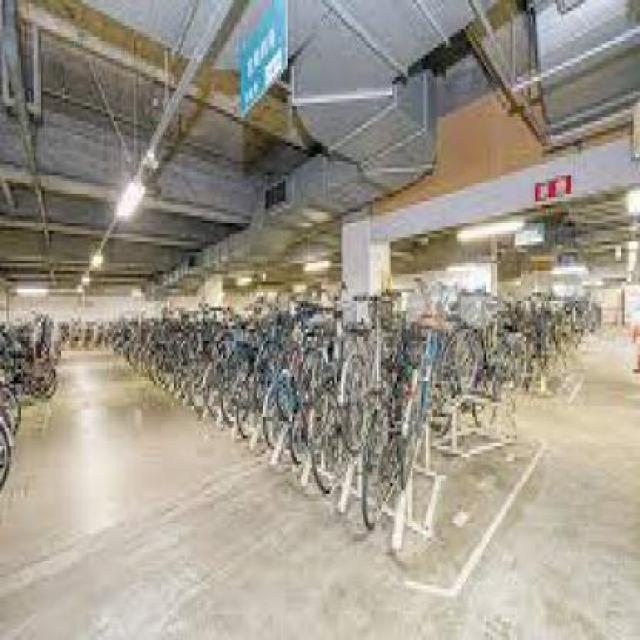bicycle: (358, 349, 423, 531)
